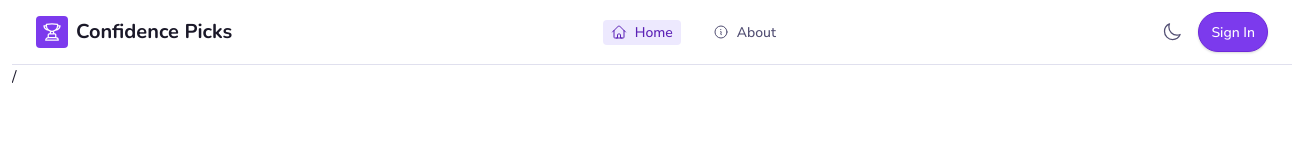
Test case: Navigation › authentication state › navigates to /login when Sign In is clicked
What coordinates should you click on to do the following:
click the button "Sign In"
I would click on:
 (1233, 32)
Its box is x1=1198 y1=12 x2=1268 y2=52.
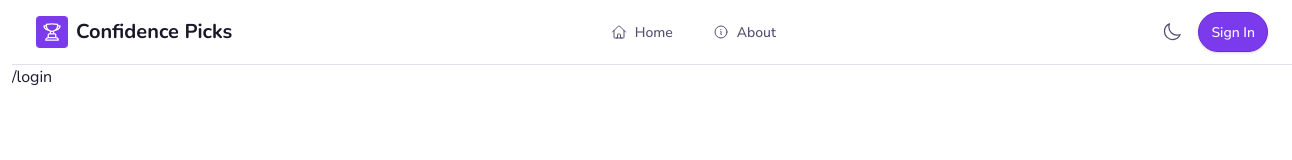
Expected: the text with test id "location" reads "/login", x1=12 y1=66 x2=52 y2=88
